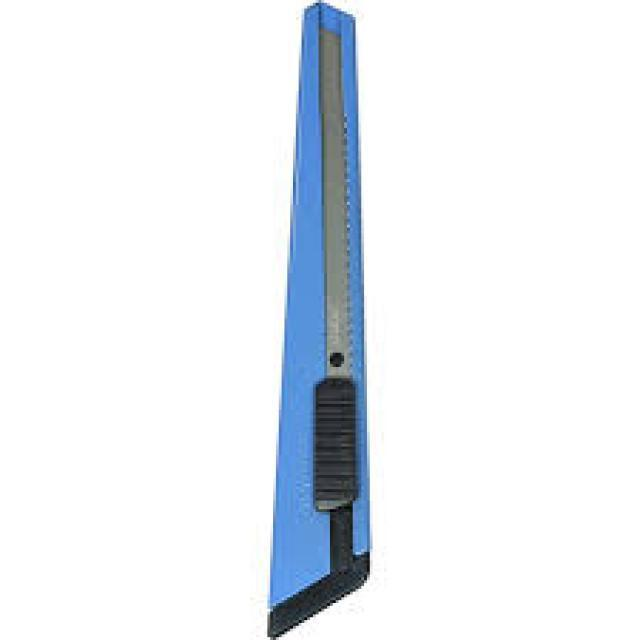cutter: (256, 0, 372, 640)
